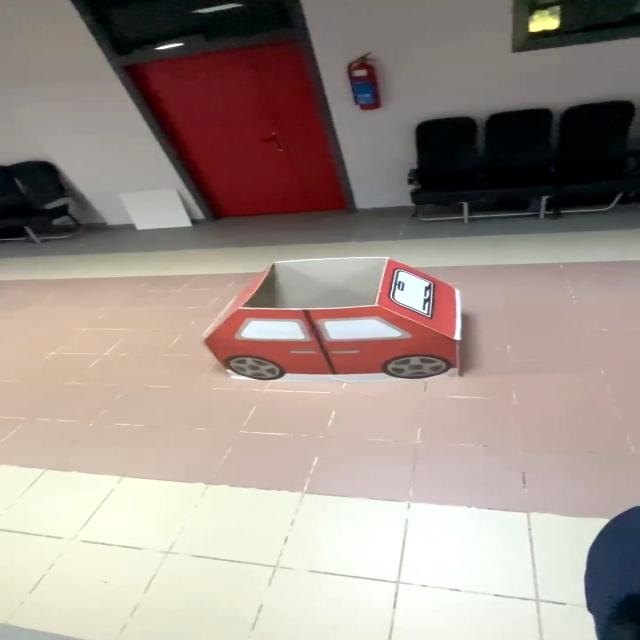red_car: (153, 239, 529, 409)
